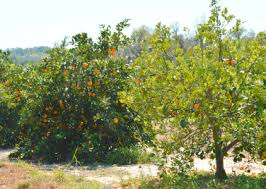orange: (111, 117, 119, 124)
